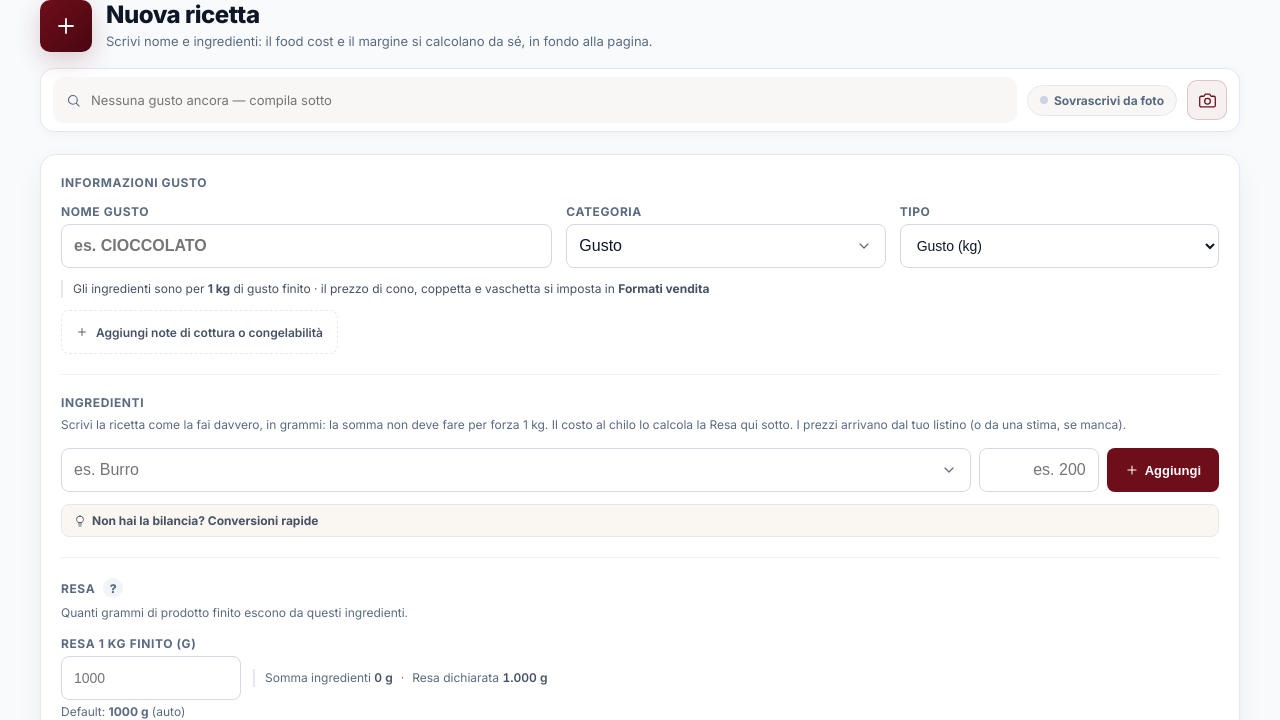
Test: Nuova Ricetta - food cost al kg dei gusti › un gusto scritto su 500 g mostra il costo di 1 kg, non quello del batch
In the field named "Nome gusto": {"x": 307, "y": 246} [61,224,552,268], type "PISTACCHIO"
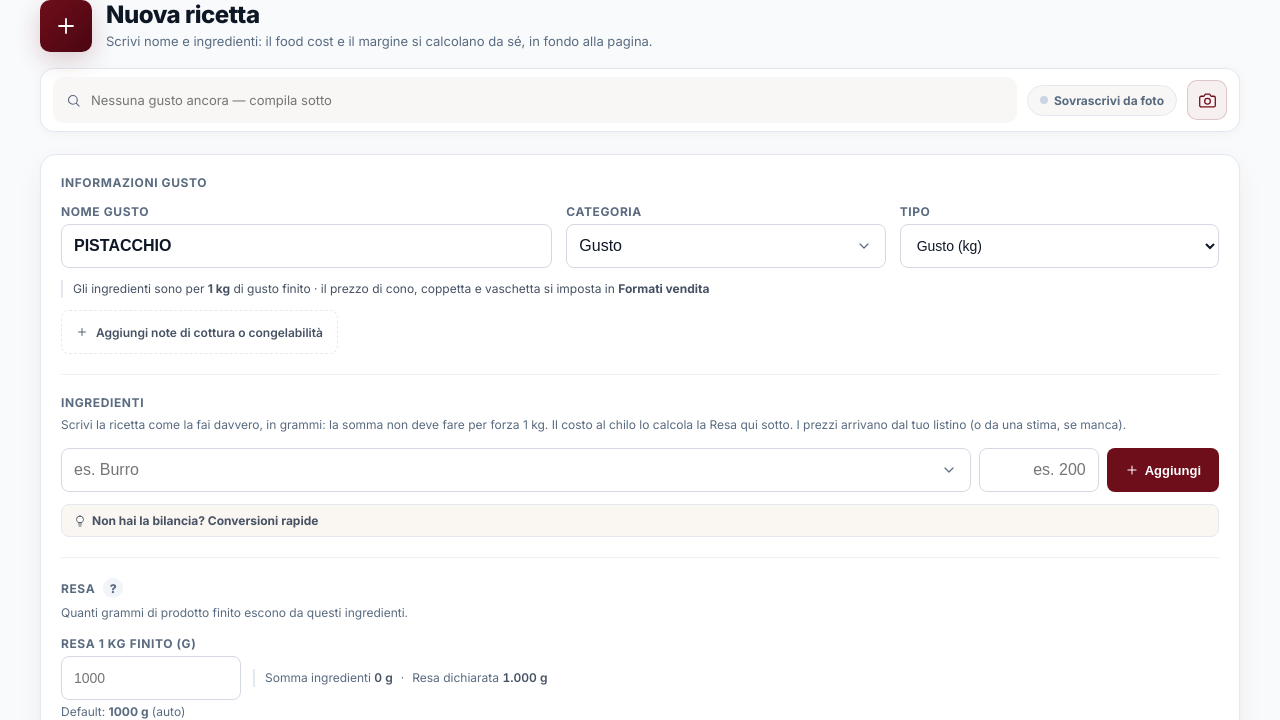
In the dropdown named "nome ingrediente da aggiungere": {"x": 516, "y": 470} [61,448,971,492], type "pistacchio"
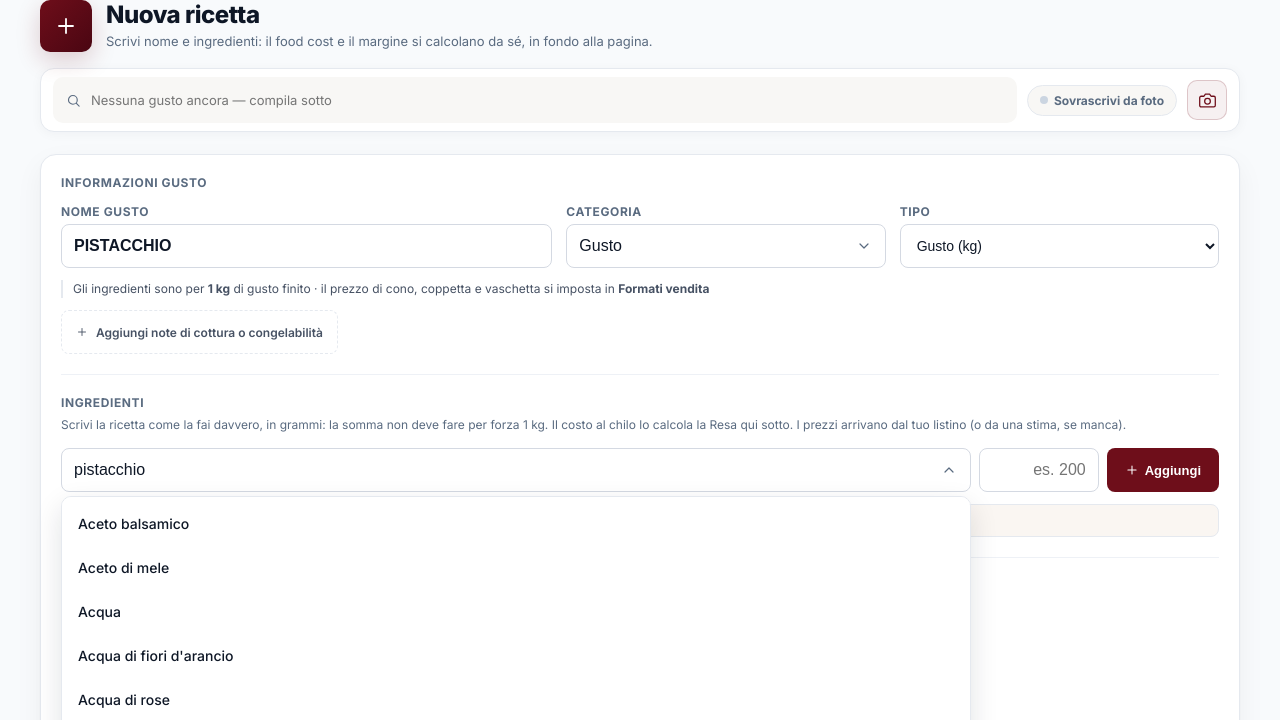
In the field named "grammi di ingrediente da aggiungere": {"x": 1039, "y": 470} [979,448,1099,492], type "500"
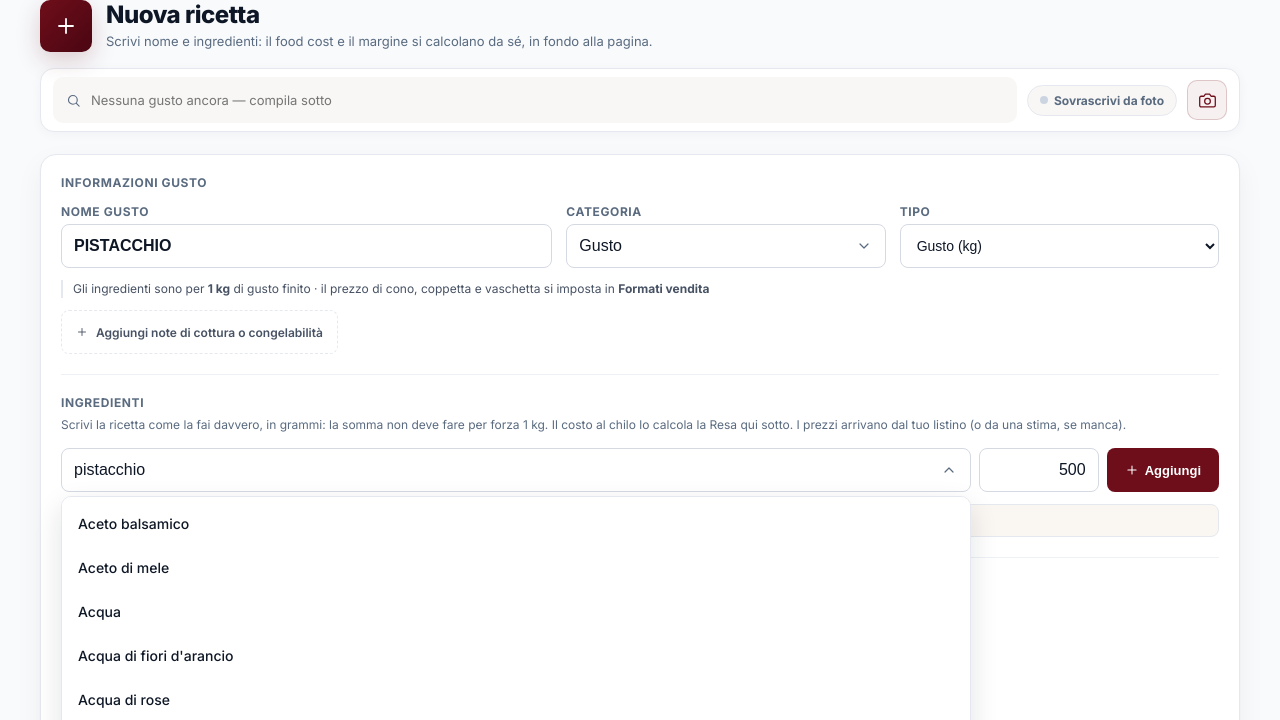
Click the button with aria-label "Aggiungi ingrediente alla ricetta": {"x": 1163, "y": 470} [1107,448,1219,492]
(page scrolled)
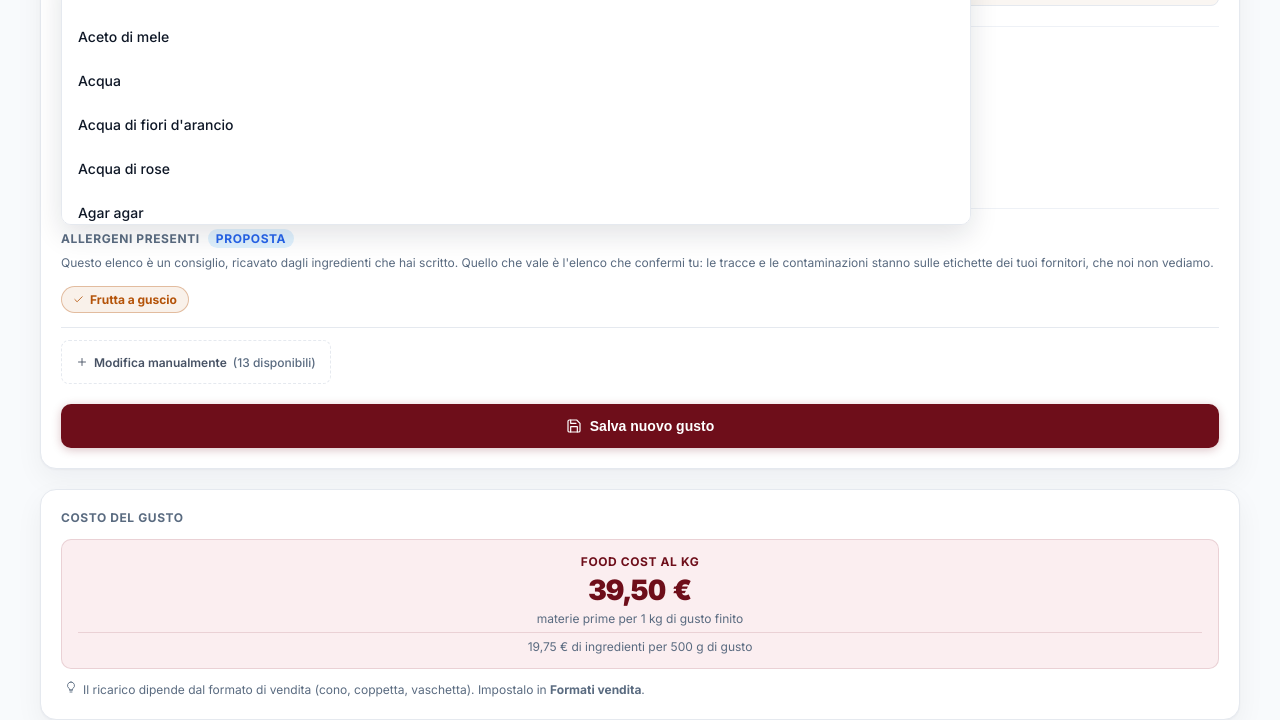
Expected: the text "39,50 €" is shown, [588,573,691,607]
Expected: the text "19,75 € di ingredienti per 500 g di gusto" is shown, [78,632,1202,654]
